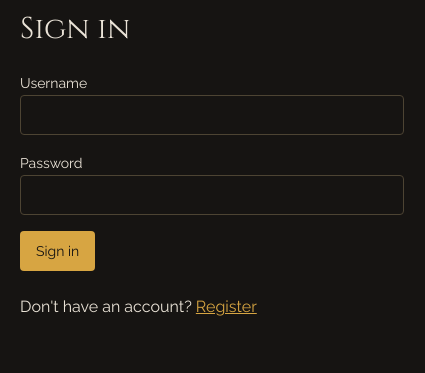
blocks submit with empty fields
The width and height of the screenshot is (425, 373).
Click the button "Sign in": point(58, 251) [20,231,95,271]
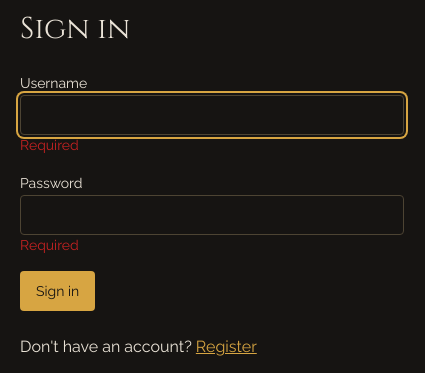
Now the text "Required" is shown 2 times, box [20,137,79,153]; [20,237,79,253]
